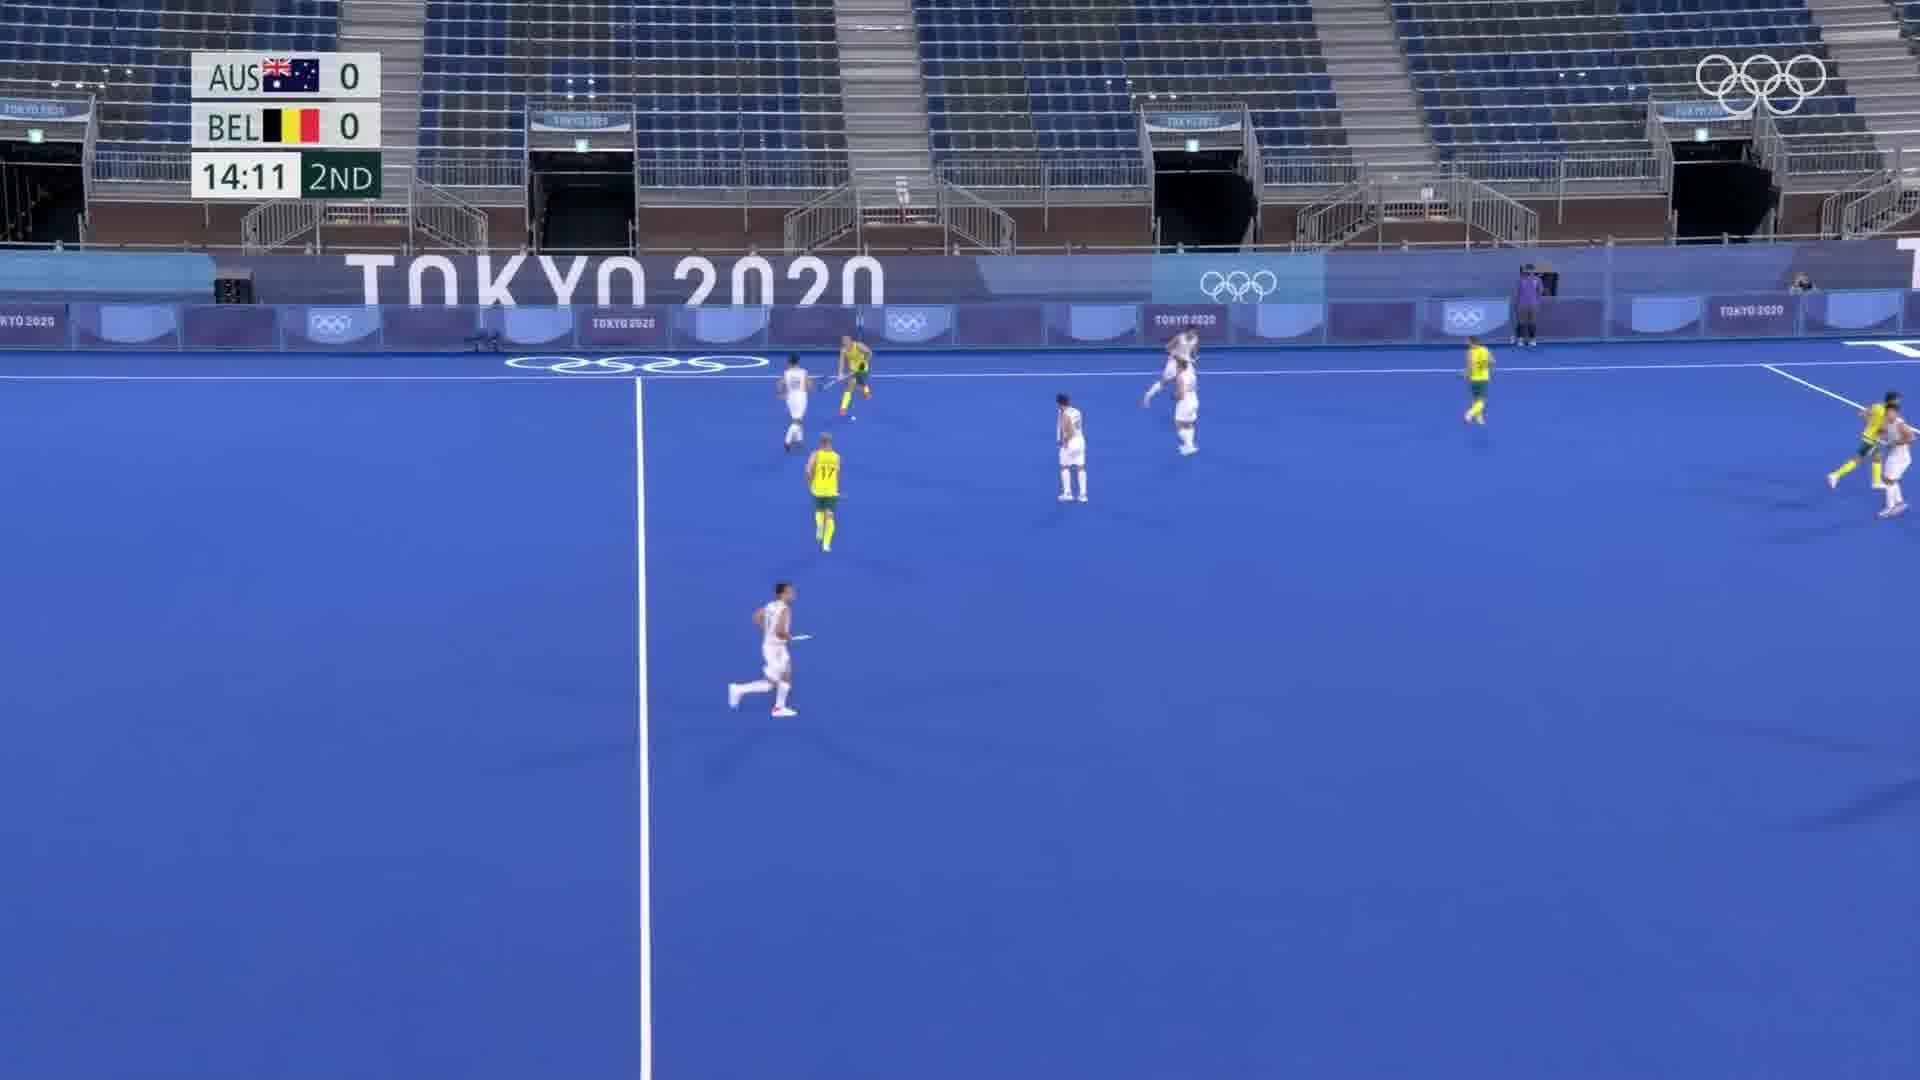ball: (843, 407, 860, 426)
